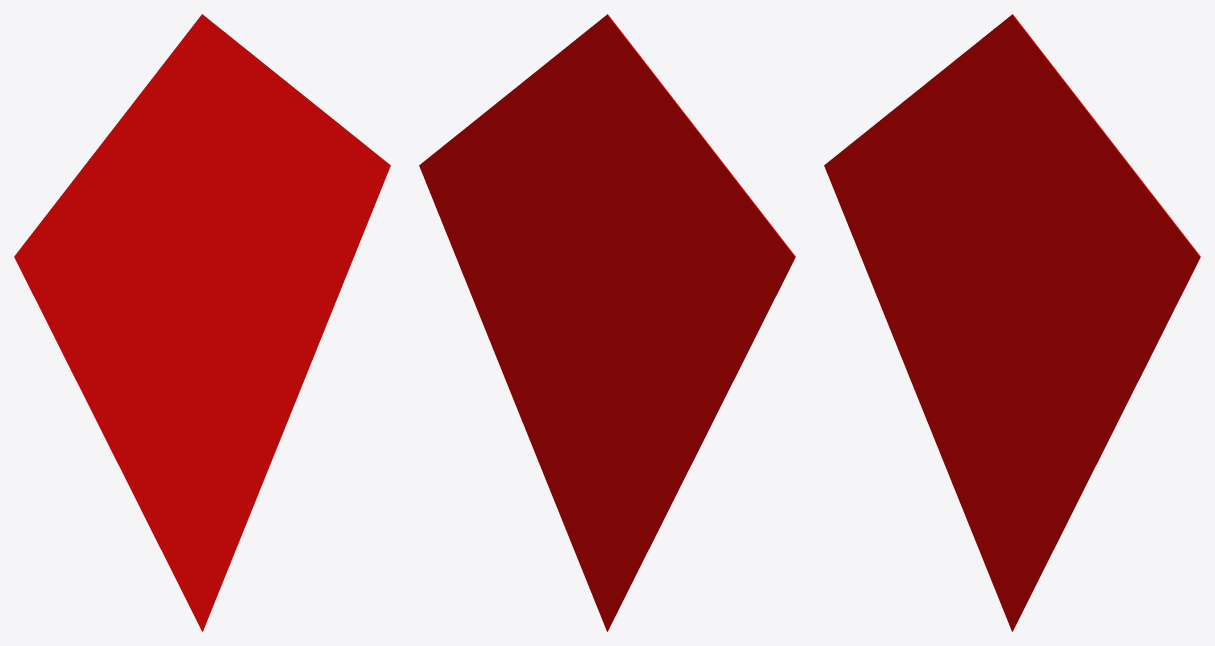
File: Layang.fbx
The picture shows the model from 3 angles, left to right: view 1: azimuth 30°, elevation 25°; view 2: azimuth 150°, elevation 25°; view 3: azimuth 330°, elevation 25°; orthographic projection.
Parts seen in each view (by area): view 1: Plane; view 2: Plane; view 3: Plane.
Boxes of the visible parts, x1,y1,x2,y2 form: Plane: (14,14,390,631); Plane: (419,14,795,631); Plane: (824,14,1200,631).
Size of the model in its own units: 283 by 444 by 0.8636.
